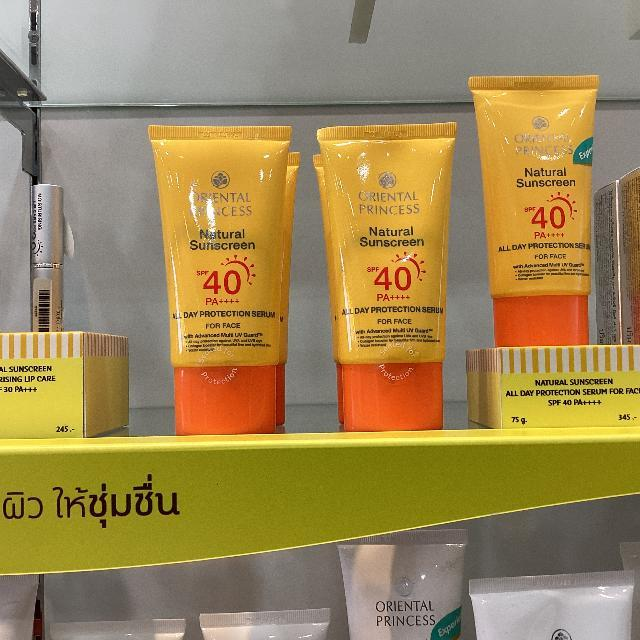Squeeze Tube: (114, 49, 640, 440), (310, 123, 459, 437), (148, 121, 292, 437), (470, 72, 605, 336)
